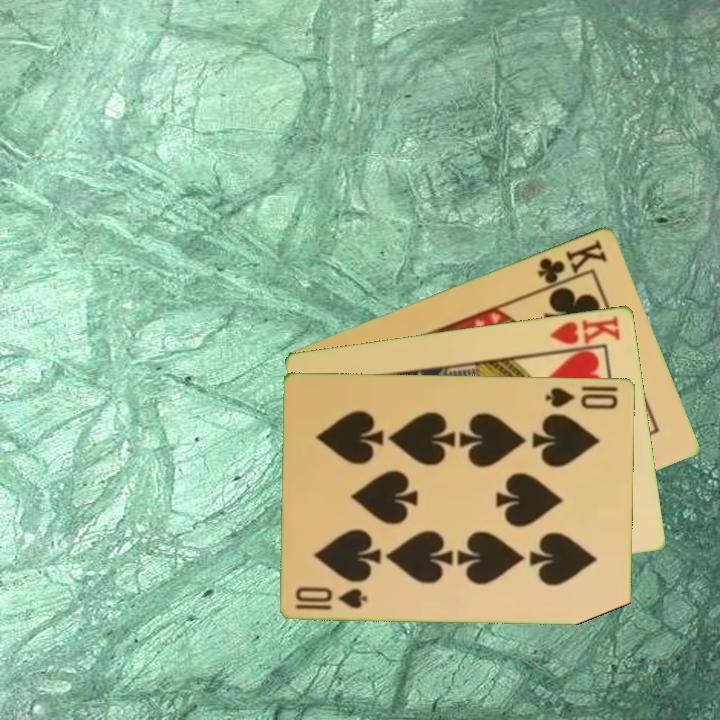10s: (292, 583, 371, 612), (542, 383, 621, 411)
Kc: (534, 236, 611, 292)
Kh: (543, 312, 623, 354)
